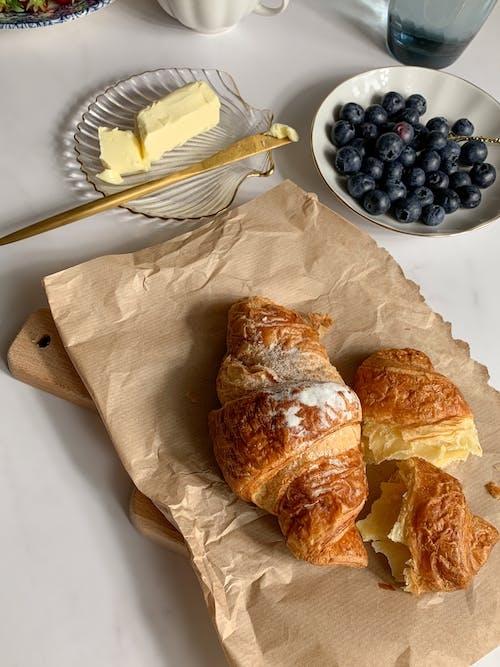knife: (0, 123, 301, 256)
